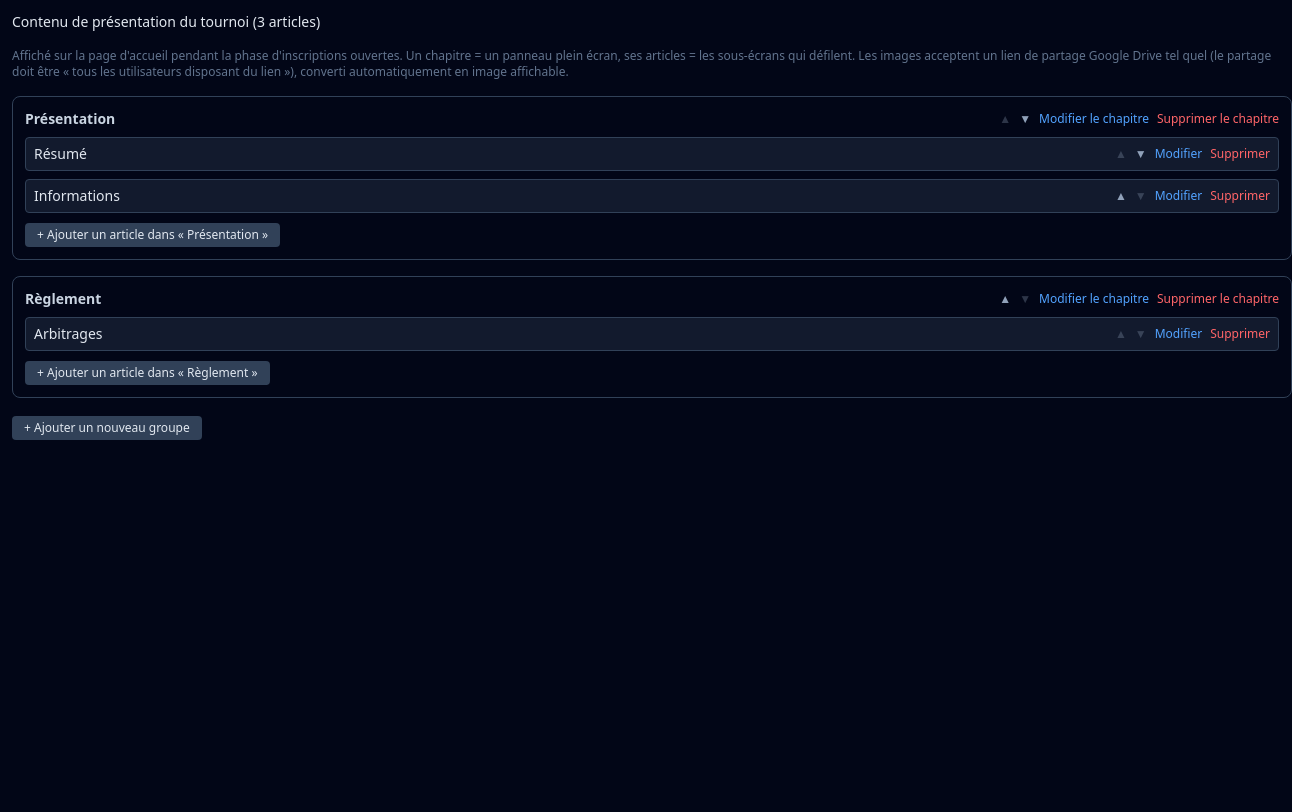
Test: PresentationArticlesAdmin › contrôle de l'image de chapitre › clears the local error as soon as the field is edited
Click the 2nd button "Modifier le chapitre": (1094, 299) 1039,291 -> 1149,307
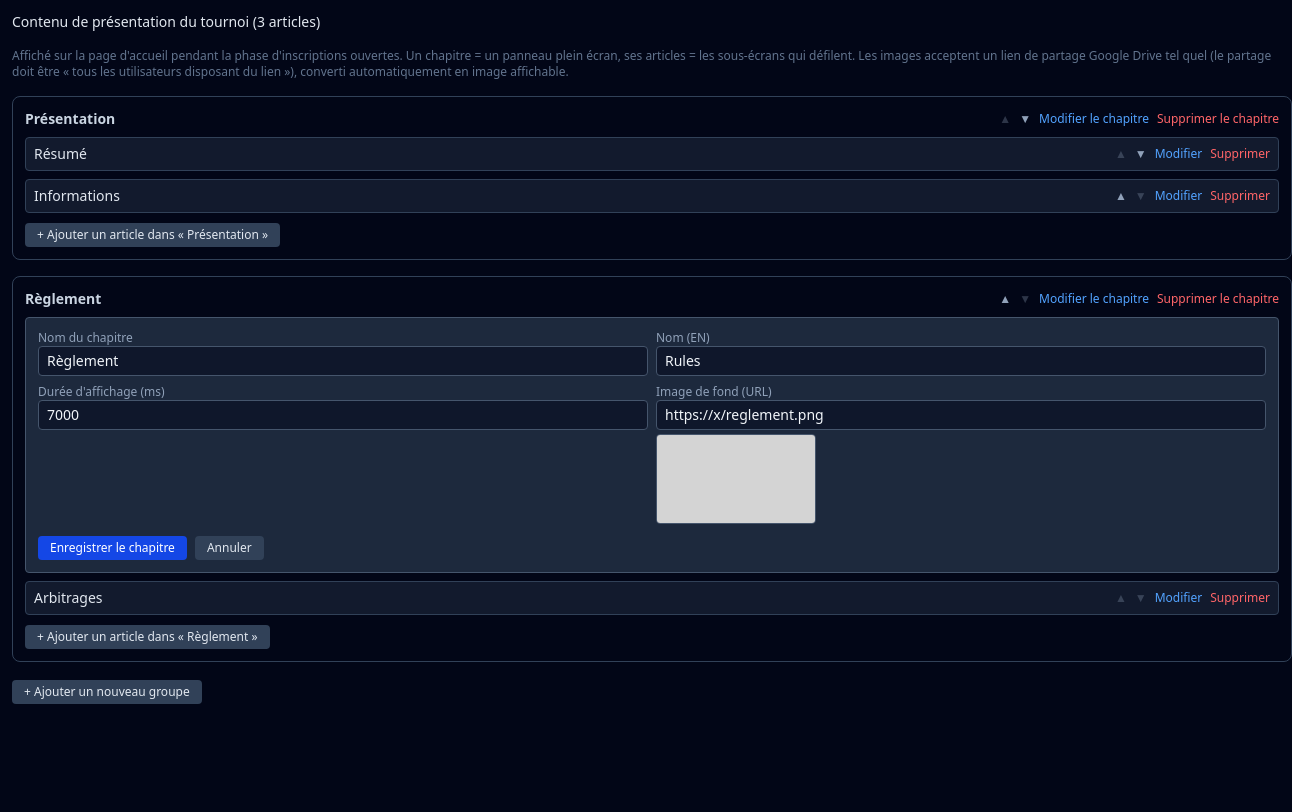
Replace the text in the field with test id "groupe-image-input" with "javascript:alert(1)": (961, 415) 656,400 -> 1266,430
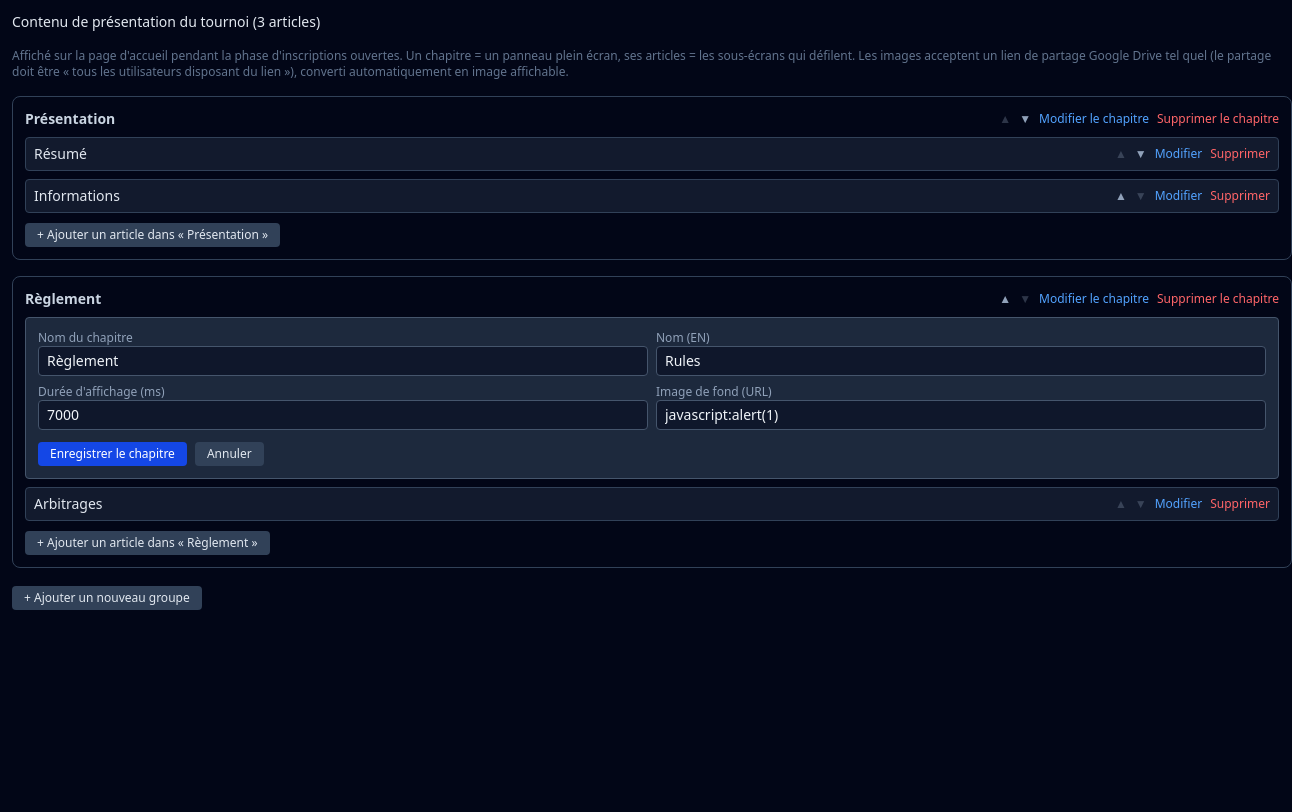
Click the button "Enregistrer le chapitre": (112, 454) 38,442 -> 187,466
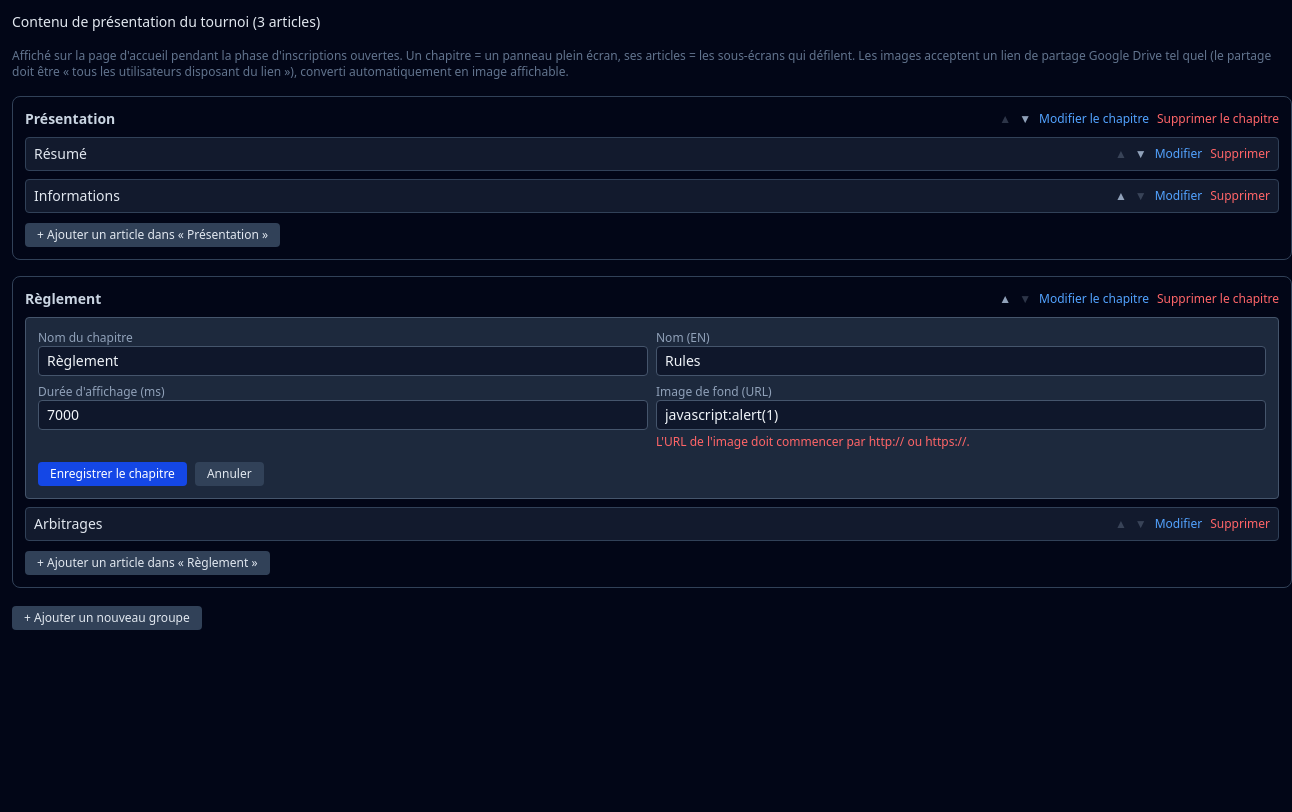
Result: the message "L'URL de l'image doit commencer par http:// ou https://." is shown at 656,433 -> 970,450
Replace the text in the field with test id "groupe-image-input" with "https://cdn.example.com/ok.jpg": (961, 415) 656,400 -> 1266,430
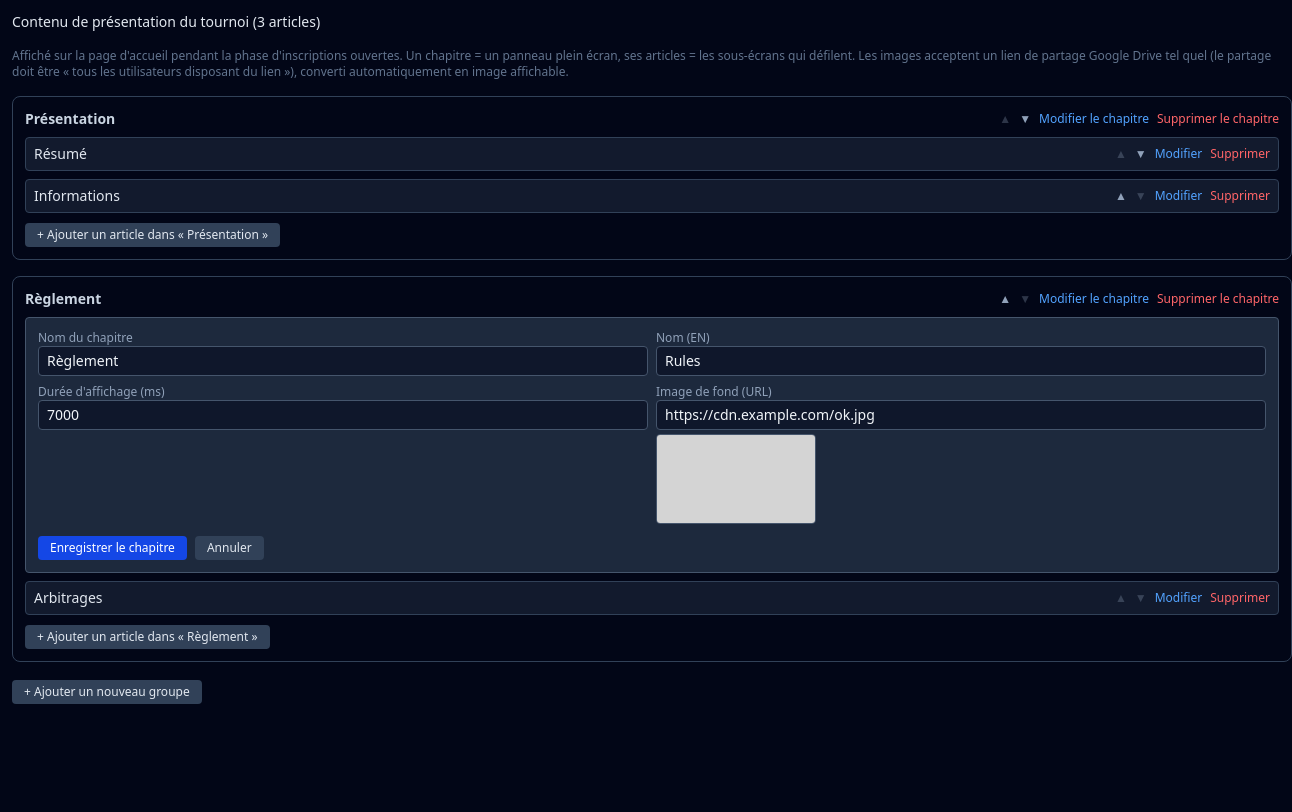
Result: the message with test id "groupe-image-error" is gone
